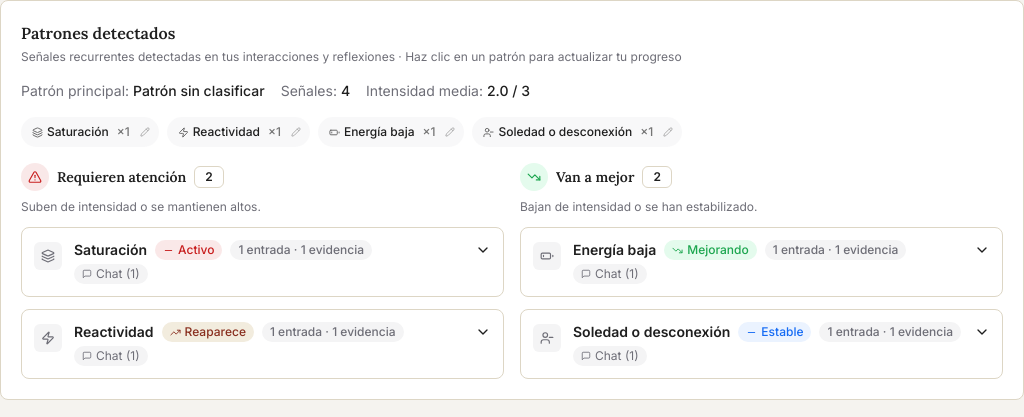
Test: DetectedPatternsPanel › trend columns › selecting a chip leaves focus mode without columns
The chip and the card trigger share an accessible name, so pick the chip.
Click the button titled "Filtrar evidencias por este patrón". click: {"x": 79, "y": 132}
box: [22,118,136,146]
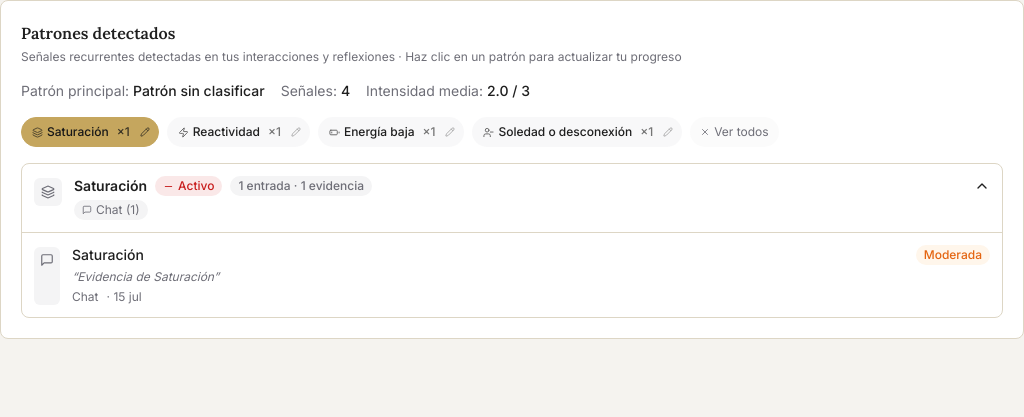
Result: the element with test id "friction-column-attention" is gone
Result: the element with test id "friction-column-improving" is gone
Result: the text "“Evidencia de Saturación”" is shown at [72,269,219,284]
